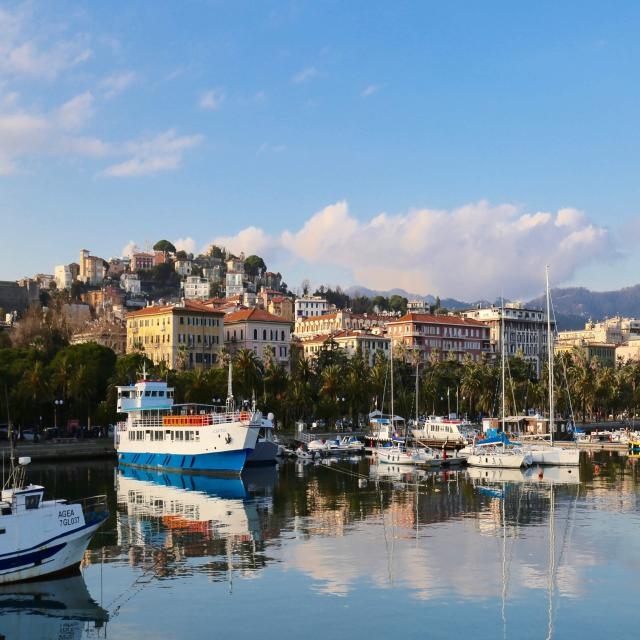cargoship: (110, 366, 276, 475)
houseboat: (471, 440, 524, 480), (412, 412, 464, 450)
